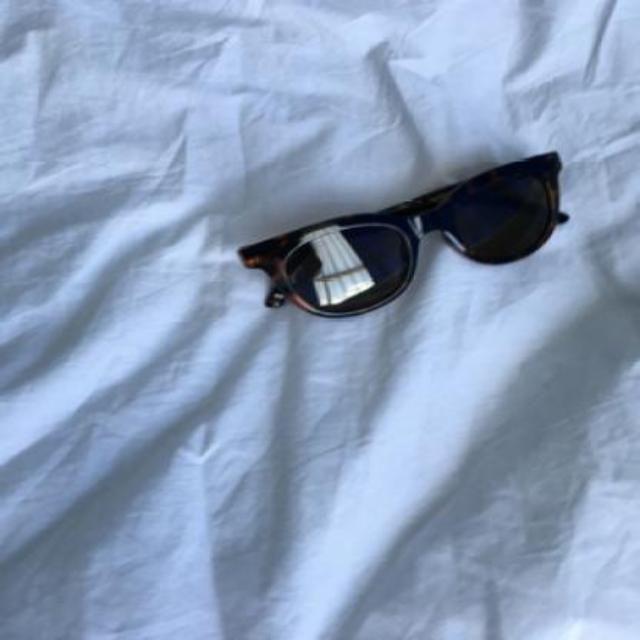sunglasses: (235, 152, 570, 318)
